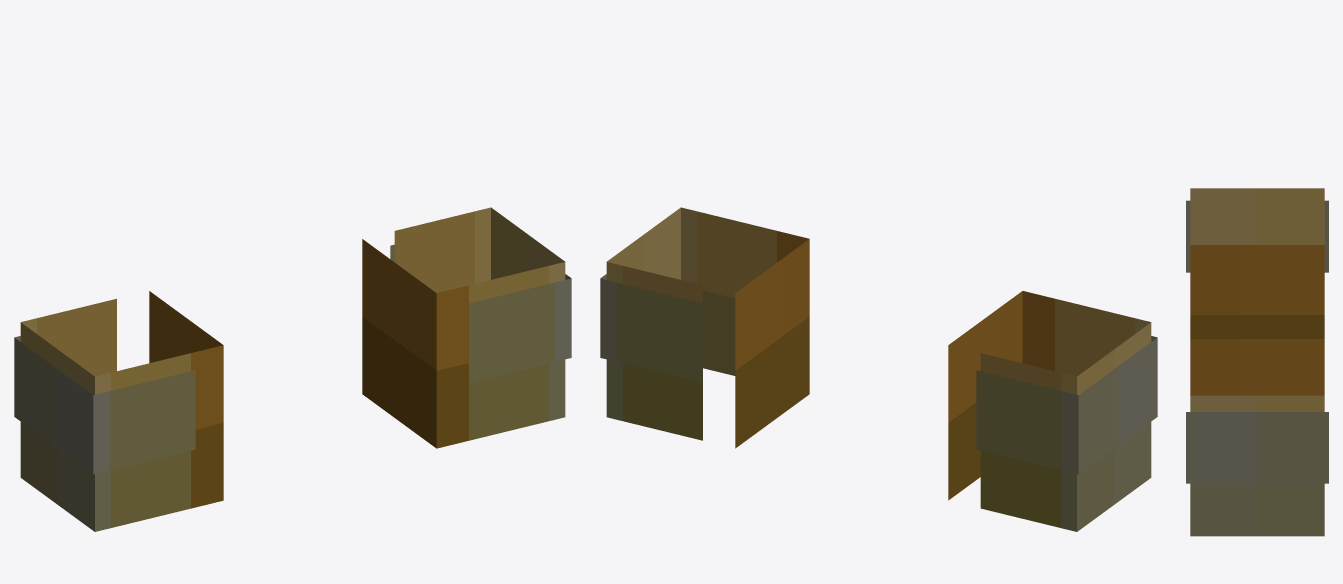
The model's file is sl_bracelet.glb.
The picture shows the model from 3 angles, left to right: view 1: azimuth 30°, elevation 25°; view 2: azimuth 150°, elevation 25°; view 3: azimuth 270°, elevation 25°; orthographic projection. The views are drawn at different scales.
Visible parts, largest first — view 1: bb_bracelet; view 2: bb_bracelet; view 3: bb_bracelet.
Part boxes in pixels (<box>): bb_bracelet: <box>14,207,571,531</box>; bb_bracelet: <box>600,207,1157,531</box>; bb_bracelet: <box>1186,188,1328,536</box>.
Size of the model in its own units: 1.05 by 0.8 by 0.3.
Materials: 1 (1 with a texture image).
